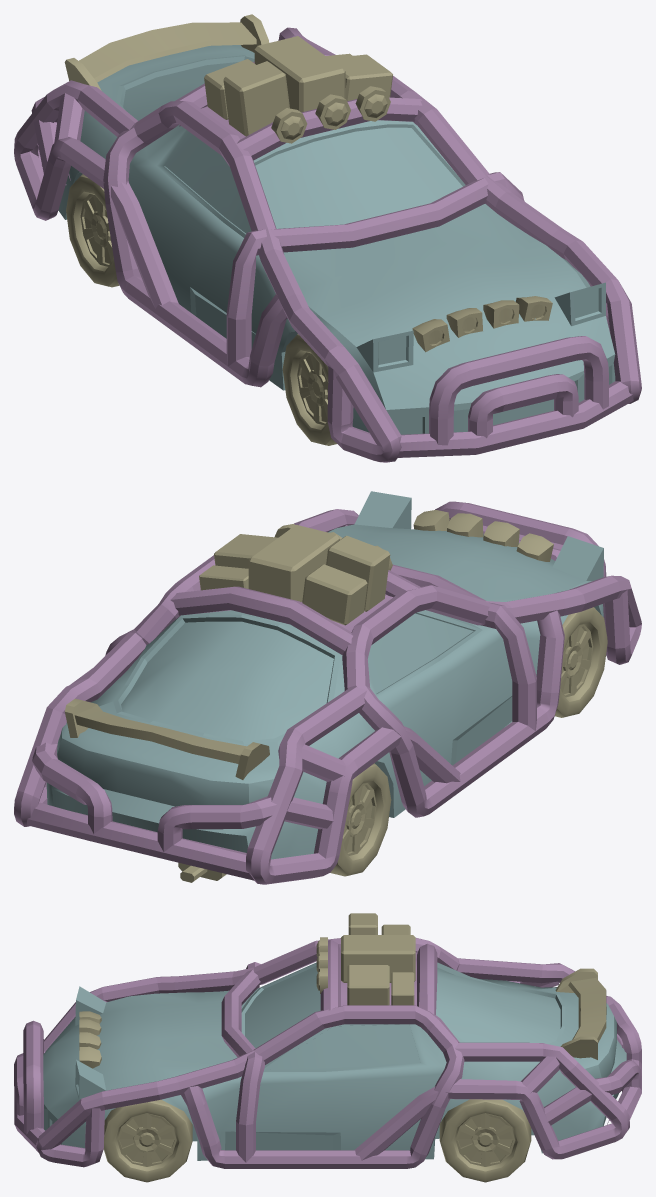
File: PJF_mazda_rx7_v2.fbx
3 renders of one model, top to bottom at view 1: azimuth 30°, elevation 25°; view 2: azimuth 150°, elevation 25°; view 3: azimuth 270°, elevation 25°, orthographic. The views are drawn at different scales.
Visible parts, largest first — view 1: mazda_rx7, rollCage_sideR, rollCage_front, rollCage_sideL, spoiler1, rollCage_topPart, chest, tire03, tire04, ammo_box2, rollCage_R_part1, rollCage_top (+9 smaller); view 2: mazda_rx7, rollCage_sideR, rollCage_sideL, rollCage_top, rollCage_back, spoiler1, chest, tire03, tire04, rollCage_backR, rollCage_R_part1, ammo_box1 (+10 smaller); view 3: mazda_rx7, rollCage_sideL, rollCage_sideR, tire02, tire01, rollCage_front, spoiler1, rollCage_top, chest, rollCage_L_part1, rollCage_topPart, med_box (+6 smaller).
Boxes of the visible parts, x1=… form: mazda_rx7: x1=58, y1=45, x2=615, y2=434; rollCage_sideR: x1=14, y1=80, x2=401, y2=462; rollCage_front: x1=397, y1=336, x2=633, y2=457; rollCage_sideL: x1=278, y1=27, x2=641, y2=403; spoiler1: x1=64, y1=14, x2=269, y2=90; rollCage_topPart: x1=271, y1=178, x2=488, y2=252; chest: x1=254, y1=36, x2=345, y2=112; tire03: x1=66, y1=174, x2=119, y2=287; tire04: x1=282, y1=334, x2=336, y2=445; ammo_box2: x1=223, y1=61, x2=289, y2=136; rollCage_R_part1: x1=226, y1=229, x2=266, y2=366; rollCage_top: x1=175, y1=55, x2=422, y2=160; mazda_rx7: x1=46, y1=491, x2=606, y2=859; rollCage_sideR: x1=246, y1=575, x2=641, y2=884; rollCage_sideL: x1=14, y1=509, x2=358, y2=826; rollCage_top: x1=170, y1=570, x2=420, y2=655; rollCage_back: x1=27, y1=802, x2=254, y2=880; spoiler1: x1=64, y1=698, x2=269, y2=779; chest: x1=248, y1=525, x2=339, y2=601; tire03: x1=330, y1=763, x2=391, y2=876; tire04: x1=555, y1=607, x2=607, y2=717; rollCage_backR: x1=157, y1=796, x2=276, y2=851; rollCage_R_part1: x1=480, y1=602, x2=536, y2=730; ammo_box1: x1=302, y1=564, x2=367, y2=625; mazda_rx7: x1=43, y1=962, x2=626, y2=1160; rollCage_sideL: x1=36, y1=1005, x2=629, y2=1168; rollCage_sideR: x1=44, y1=938, x2=574, y2=1051; tire02: x1=439, y1=1099, x2=531, y2=1182; tire01: x1=103, y1=1099, x2=192, y2=1182; rollCage_front: x1=14, y1=1020, x2=44, y2=1152; spoiler1: x1=555, y1=968, x2=606, y2=1059; rollCage_top: x1=320, y1=939, x2=437, y2=1027; chest: x1=341, y1=935, x2=415, y2=982; rollCage_L_part1: x1=236, y1=1052, x2=264, y2=1162; rollCage_topPart: x1=221, y1=969, x2=260, y2=1057; med_box: x1=347, y1=965, x2=389, y2=1005.
Bounding box in the file's own units: 1.99 × 1.54 × 4.49.
